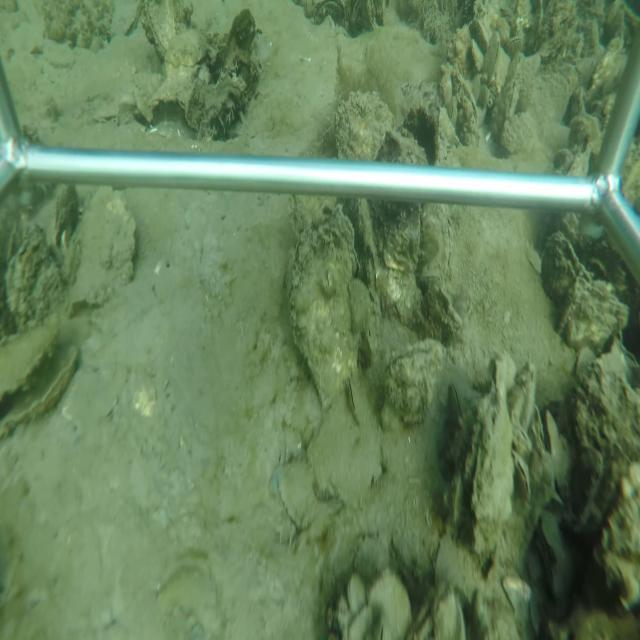Oyster-Closed: (285, 203, 359, 411), (468, 384, 517, 563), (0, 344, 82, 445), (382, 338, 445, 427), (417, 205, 456, 288), (144, 2, 176, 61), (430, 529, 456, 586), (483, 28, 503, 80), (516, 451, 534, 502), (348, 376, 361, 428)
Oyster-Indeterminate: (64, 185, 139, 320), (332, 84, 398, 160), (1, 321, 59, 404), (540, 226, 595, 311), (275, 452, 317, 539)
